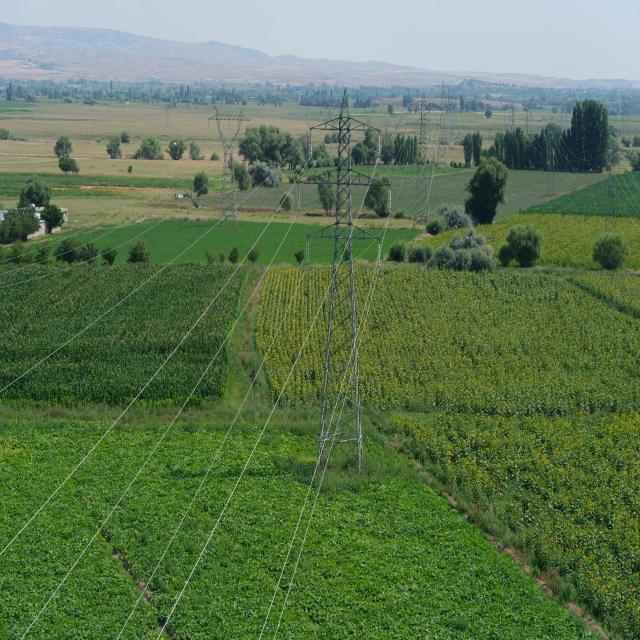voltage_line: (310, 91, 388, 478), (207, 107, 249, 230), (415, 94, 436, 229)
